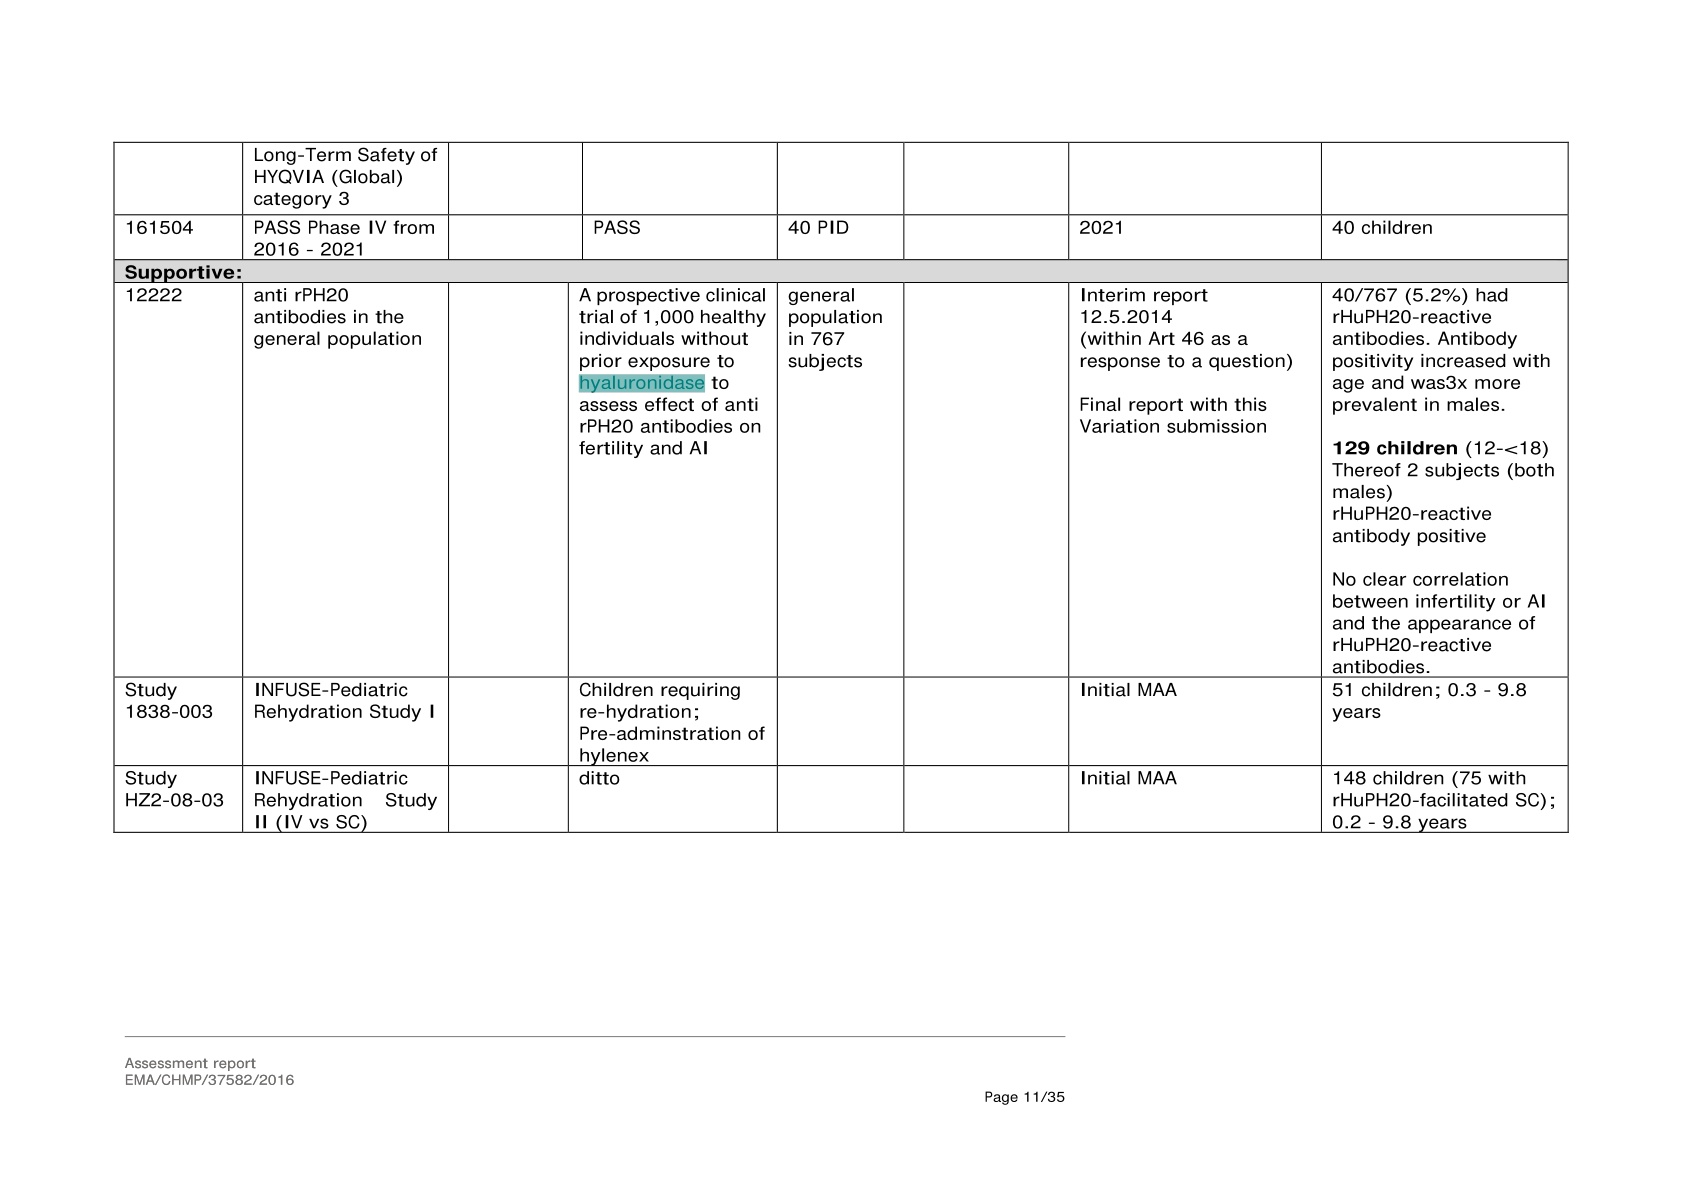merged_cells: (111, 140, 1569, 835)
